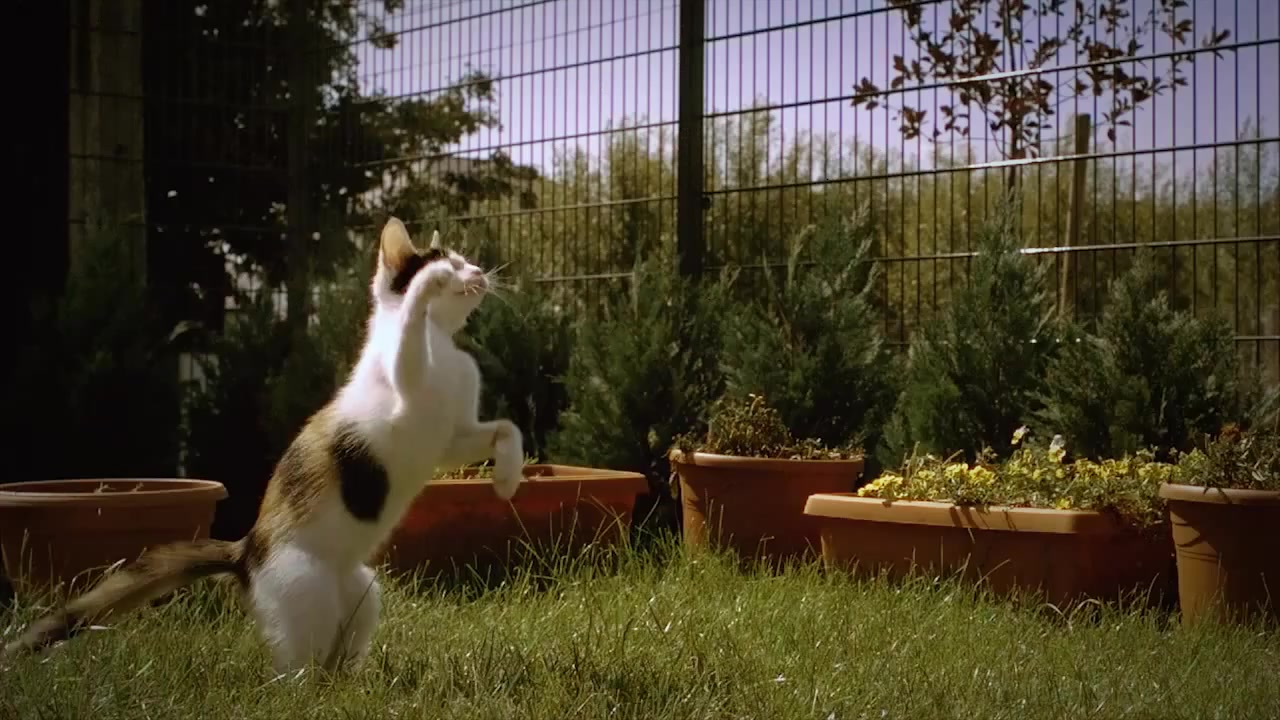cat: (3, 216, 531, 696)
